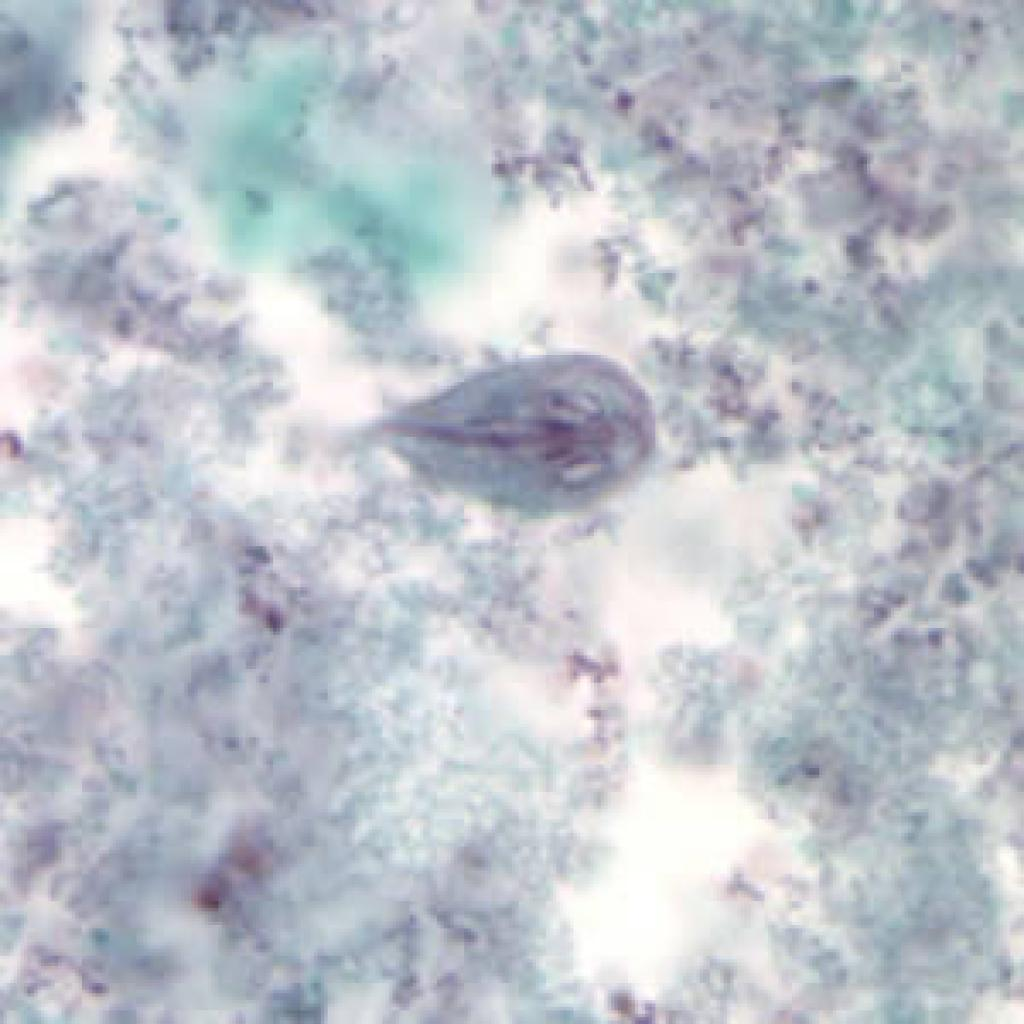Giardia: (358, 345, 662, 519)
